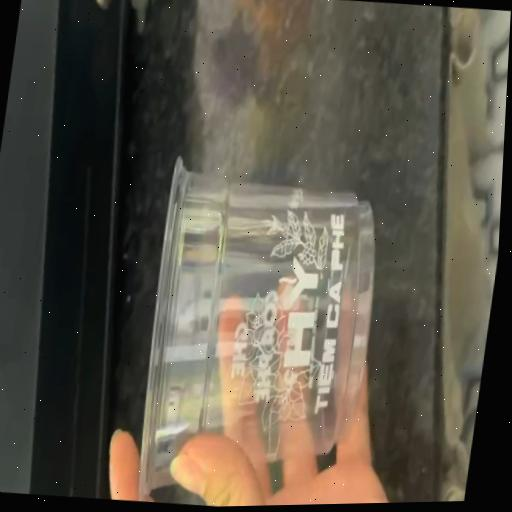Ly_giay: (139, 158, 373, 499)
ly_nhua: (139, 158, 374, 499)
